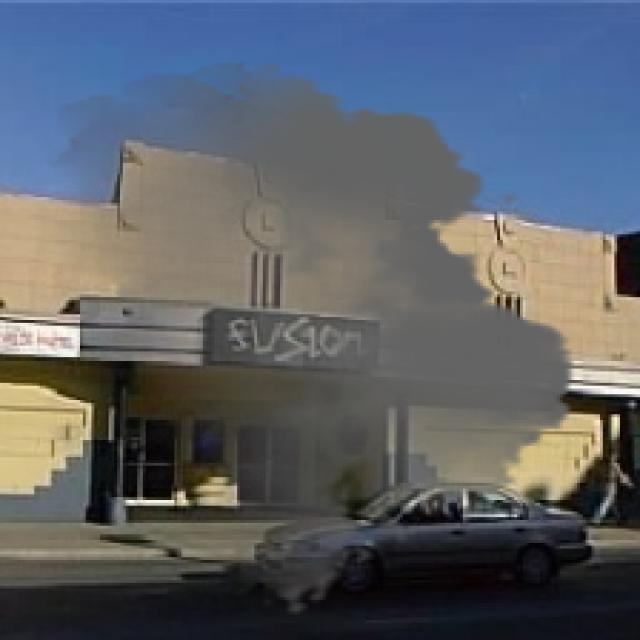Smoke: (28, 62, 594, 618)
